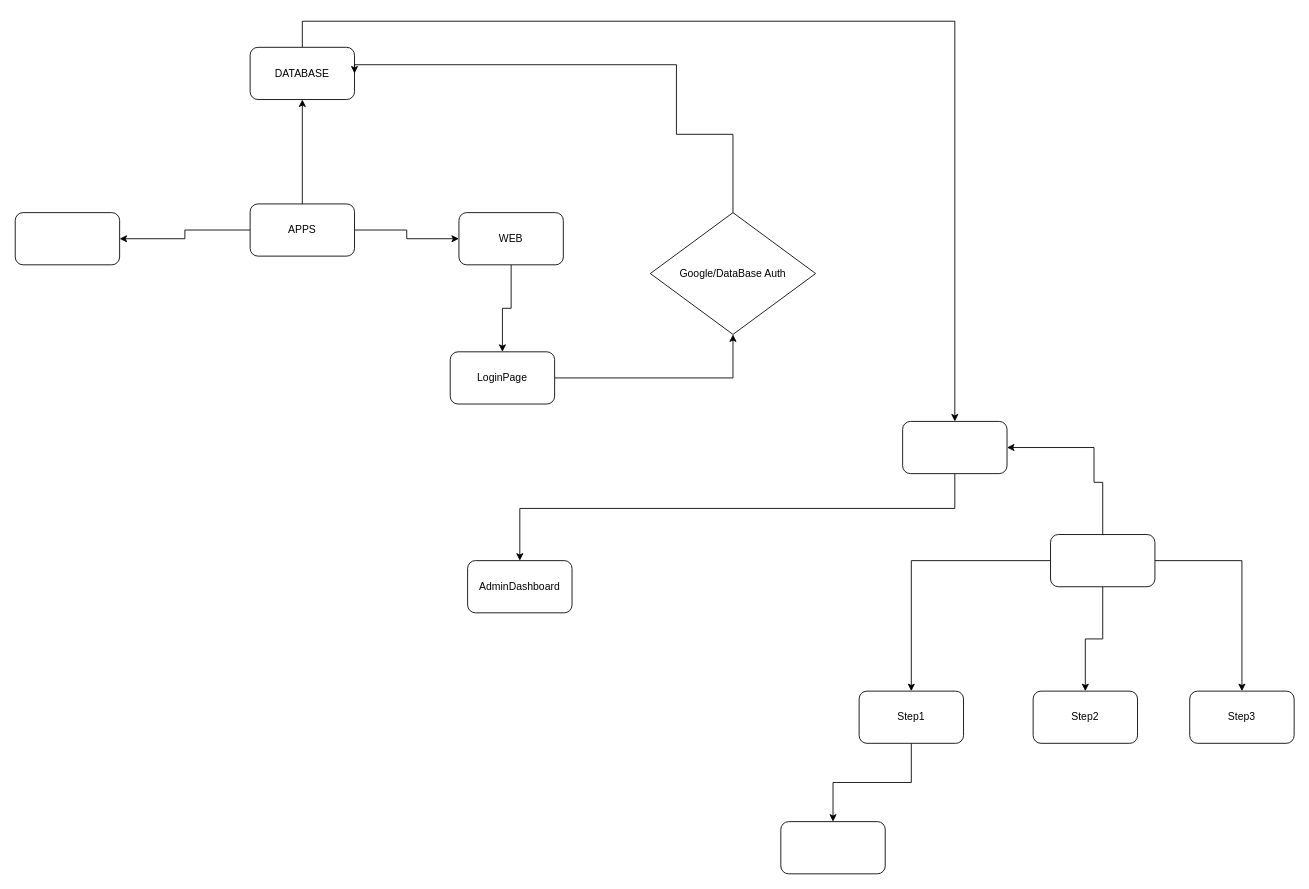
This 1309x889 diagram has some shape labels left out. The shapes that lost their labels are listed below. From the top down, each one's centre as x and y in pixels, then its label:
At (x=67, y=238): "API".
At (x=954, y=447): "Admin or User?".
At (x=1102, y=560): "User AccidentReportPage".
At (x=832, y=847): "User Information Accident Location Accident Time".
